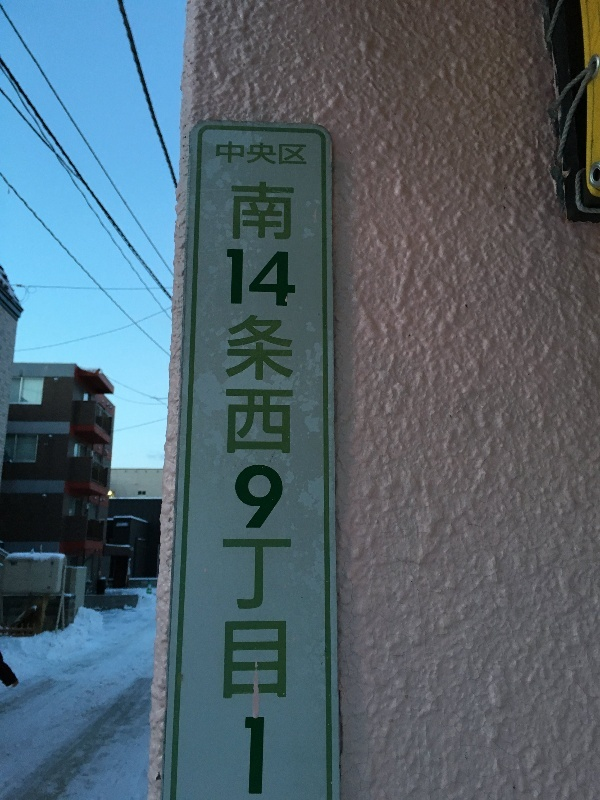text: (241, 174, 256, 798), (257, 174, 272, 798), (273, 174, 288, 798), (229, 174, 240, 798), (289, 174, 296, 798), (225, 141, 240, 167), (241, 141, 256, 167), (257, 141, 272, 167), (273, 141, 288, 167), (289, 141, 304, 167), (217, 141, 224, 167), (305, 141, 307, 167)
